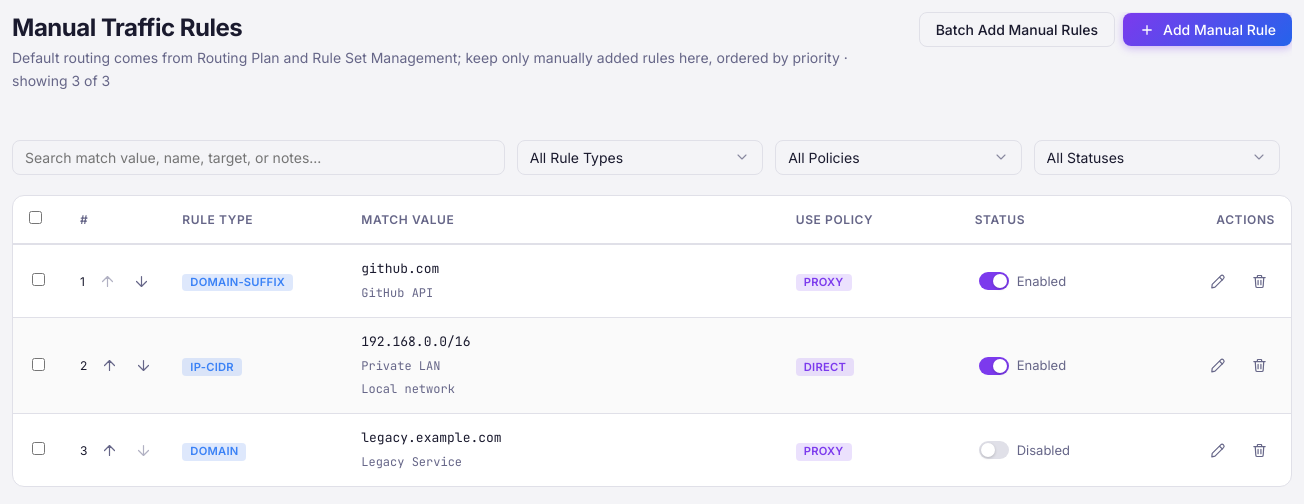
Test: Rules filters › selects the current filtered result and applies one batch enable update
Select "Disabled" in the dropdown named "Status" at (1157, 158), box top-left (1034, 140), bottom-right (1280, 175)
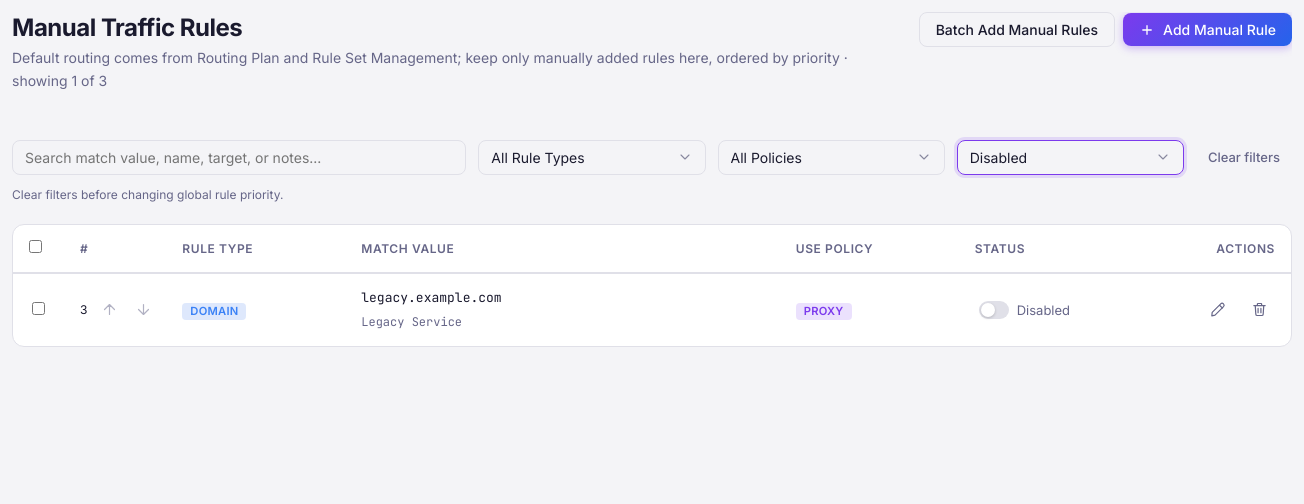
Click the checkbox named "Select all visible manual rules" at (36, 246), box top-left (29, 240), bottom-right (42, 253)
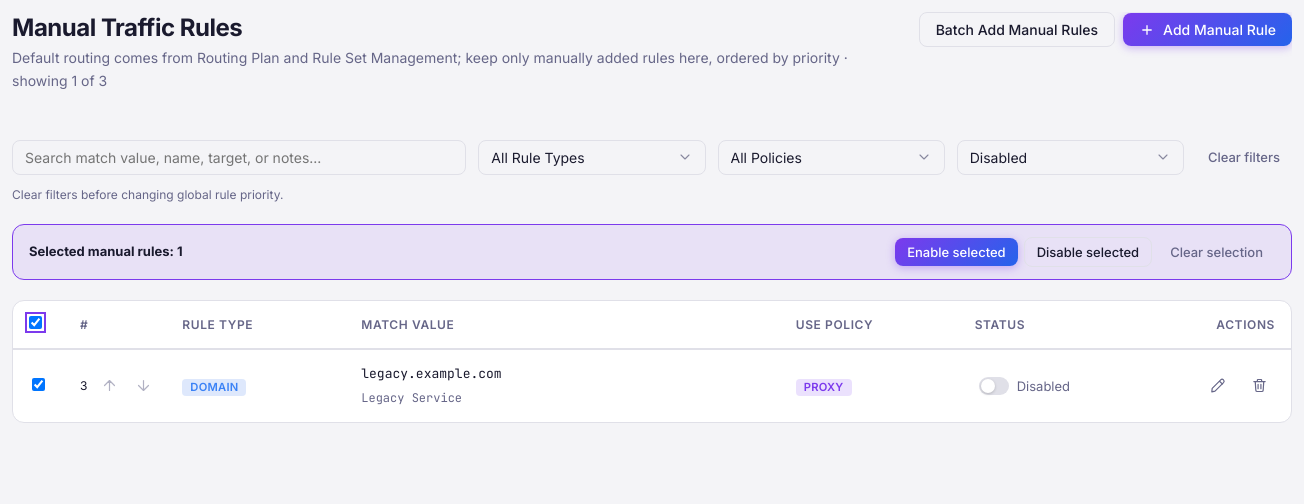
Check: the text "Selected manual rules: 1" is shown, box top-left (29, 241), bottom-right (182, 262)
Check: the checkbox named "Select Legacy Service" is checked, box top-left (32, 378), bottom-right (45, 391)
Click the button "Enable selected" at (956, 252), box top-left (895, 238), bottom-right (1018, 266)
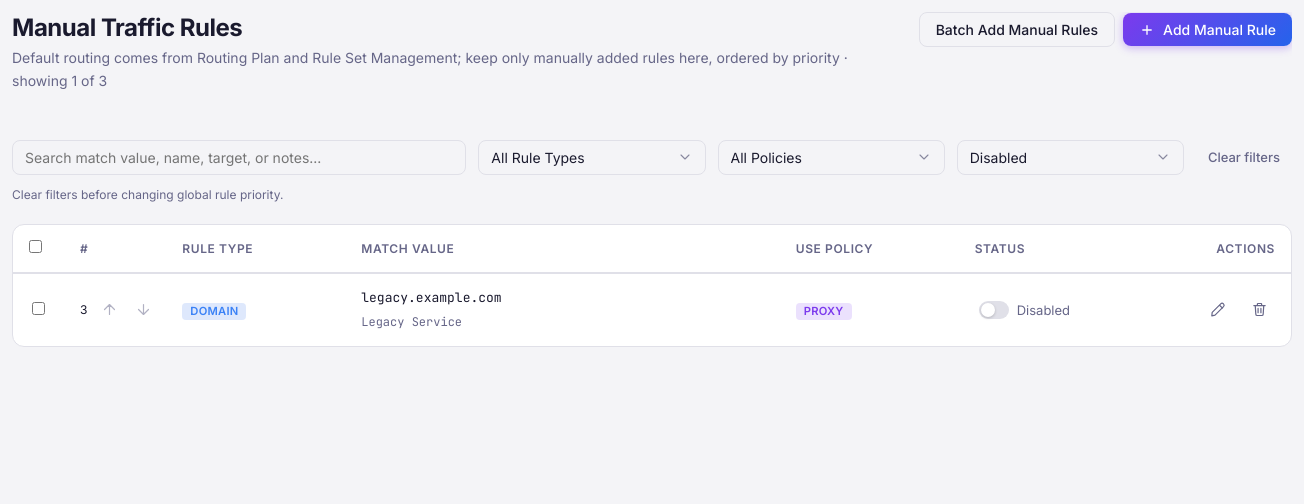
Check: the text "Selected manual rules: 1" is gone
